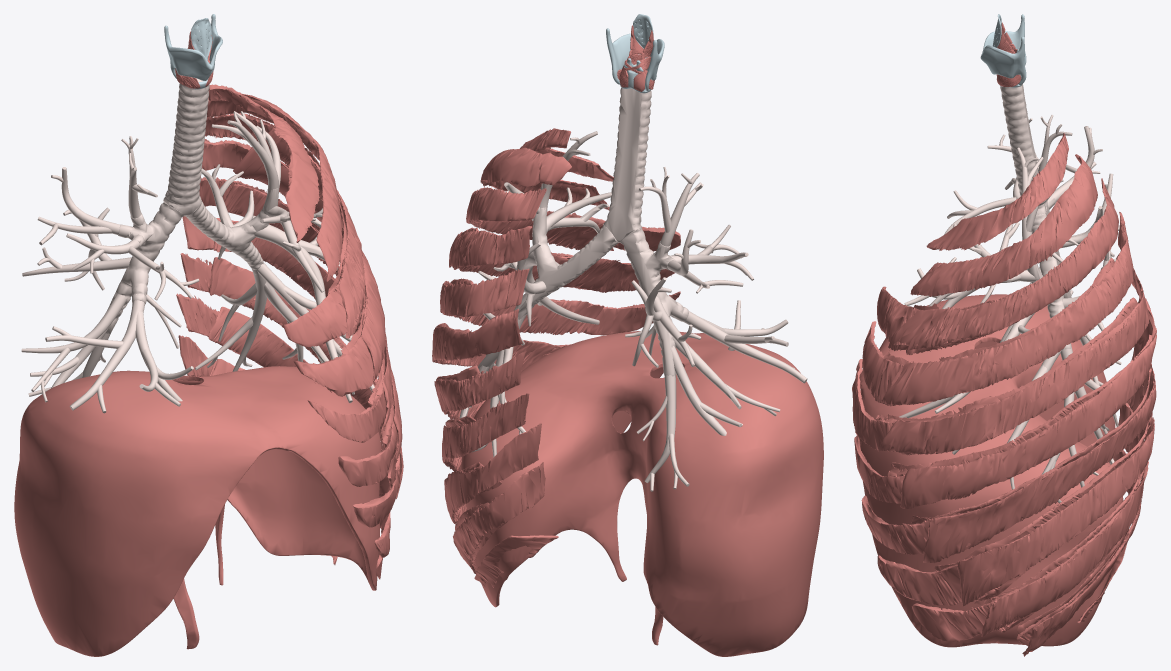
File: respiratorio.glb
3 views of the same model, side by side, from view 1: azimuth 30°, elevation 25°; view 2: azimuth 150°, elevation 25°; view 3: azimuth 270°, elevation 25° (orthographic). The views are drawn at different scales.
Parts seen in each view (by area): view 1: diafragma, intercostales-externos, intercostales-intimos, intercostales-internos, traquea, bronquio-principal-d, bronquio-principal-i, cartilago-tiroides, bronquios-lobulo-medio__FJ2449, bronquios-lobulo-superior-i__FJ2441, bronquios-lobulo-inferior-d__FJ2452, bronquios-lobulo-inferior-i__FJ2446 (+8 smaller); view 2: diafragma, intercostales-externos, intercostales-intimos, intercostales-internos, traquea, bronquio-principal-d, bronquio-principal-i, cartilago-tiroides, bronquios-lobulo-medio__FJ2449, bronquios-lobulo-inferior-d__FJ2457, bronquios-lobulo-inferior-d__FJ2455, bronquios-lobulo-superior-i__FJ2441 (+4 smaller); view 3: intercostales-externos, diafragma, intercostales-internos, intercostales-intimos, traquea, cartilago-tiroides, bronquio-principal-i, bronquios-lobulo-superior-d__FJ2458, bronquios-lobulo-superior-d__FJ2509.
Boxes of the visible parts, x1,y1,x2,y2 form: diafragma: (14, 366, 381, 656); intercostales-externos: (176, 84, 403, 564); intercostales-intimos: (208, 127, 398, 497); intercostales-internos: (209, 155, 400, 579); traquea: (163, 78, 209, 216); bronquio-principal-d: (106, 200, 184, 333); bronquio-principal-i: (186, 188, 278, 274); cartilago-tiroides: (164, 14, 222, 80); bronquios-lobulo-medio__FJ2449: (69, 293, 145, 410); bronquios-lobulo-superior-i__FJ2441: (254, 224, 352, 402); bronquios-lobulo-inferior-d__FJ2452: (21, 294, 126, 353); bronquios-lobulo-inferior-i__FJ2446: (232, 265, 266, 371); diafragma: (461, 331, 823, 656); intercostales-externos: (432, 128, 613, 573); intercostales-intimos: (436, 212, 621, 570); intercostales-internos: (437, 210, 680, 589); traquea: (604, 88, 651, 242); bronquio-principal-d: (620, 227, 688, 377); bronquio-principal-i: (516, 207, 618, 320); cartilago-tiroides: (606, 28, 664, 91); bronquios-lobulo-medio__FJ2449: (683, 308, 807, 383); bronquios-lobulo-inferior-d__FJ2457: (644, 370, 676, 482); bronquios-lobulo-inferior-d__FJ2455: (670, 346, 726, 435); bronquios-lobulo-superior-i__FJ2441: (524, 251, 599, 324); intercostales-externos: (878, 133, 1156, 656); diafragma: (859, 294, 1123, 647); intercostales-internos: (852, 238, 1154, 645); intercostales-intimos: (875, 236, 1152, 634); traquea: (1000, 84, 1046, 215); cartilago-tiroides: (980, 14, 1026, 85); bronquio-principal-i: (1027, 213, 1071, 349); bronquios-lobulo-superior-d__FJ2458: (1051, 126, 1094, 202); bronquios-lobulo-superior-d__FJ2509: (944, 197, 1016, 234).
Bounding box in the file's own units: 0.2585 × 0.4524 × 0.206.
